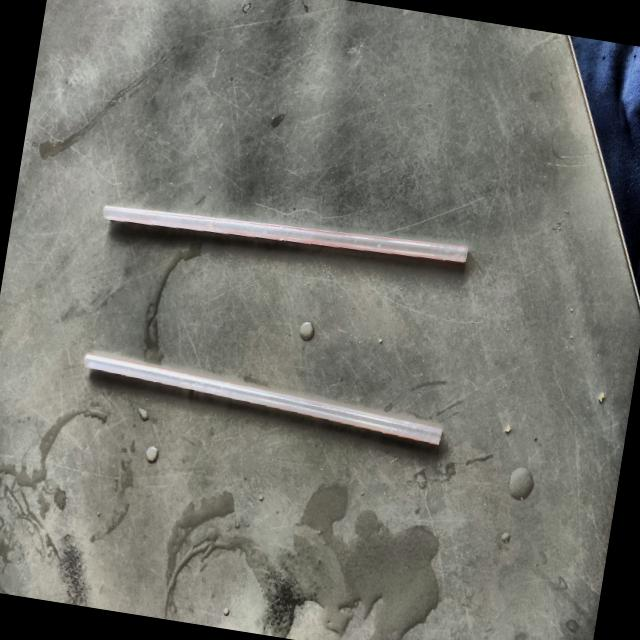plastic straw: (84, 353, 442, 445), (103, 205, 468, 263)
